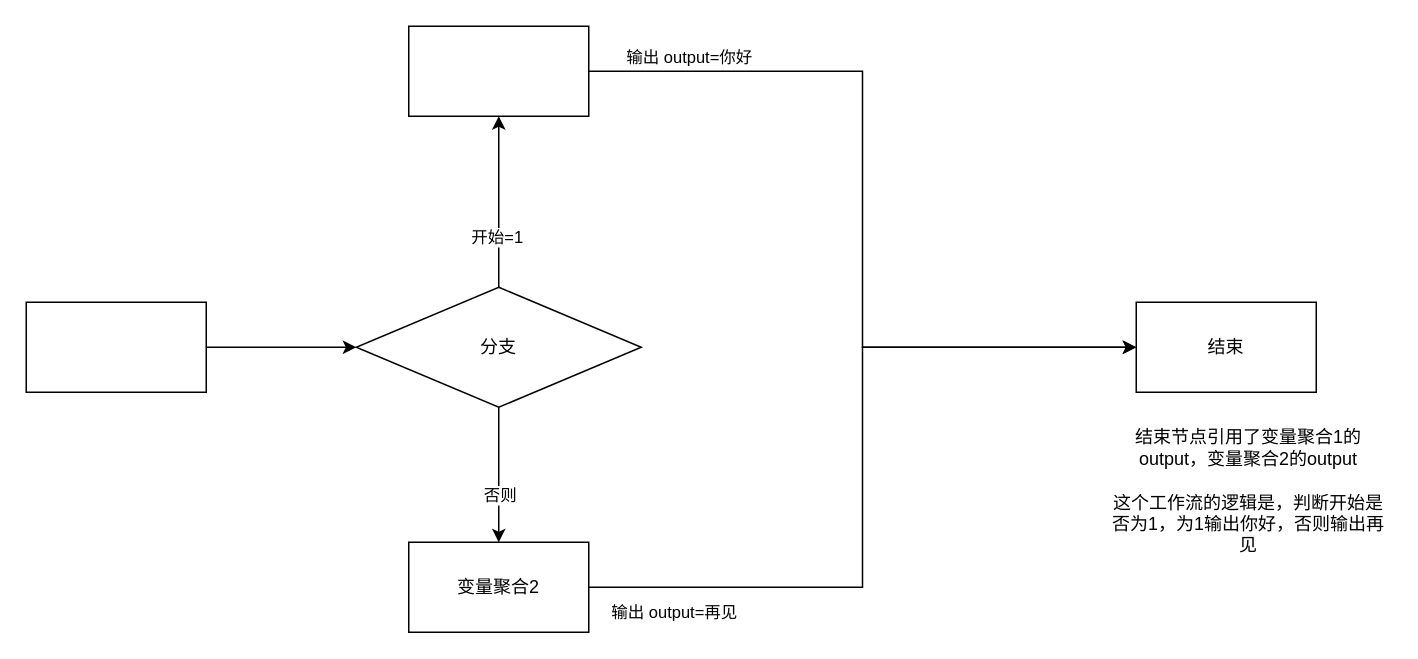
Image size: 1418x659. Some labels were removed from this diagram. The box of each missing label's shape, as (x1, y1, x2, y2) in pixels:
变量聚合1: (407, 25, 589, 116)
开始: (25, 301, 206, 392)
